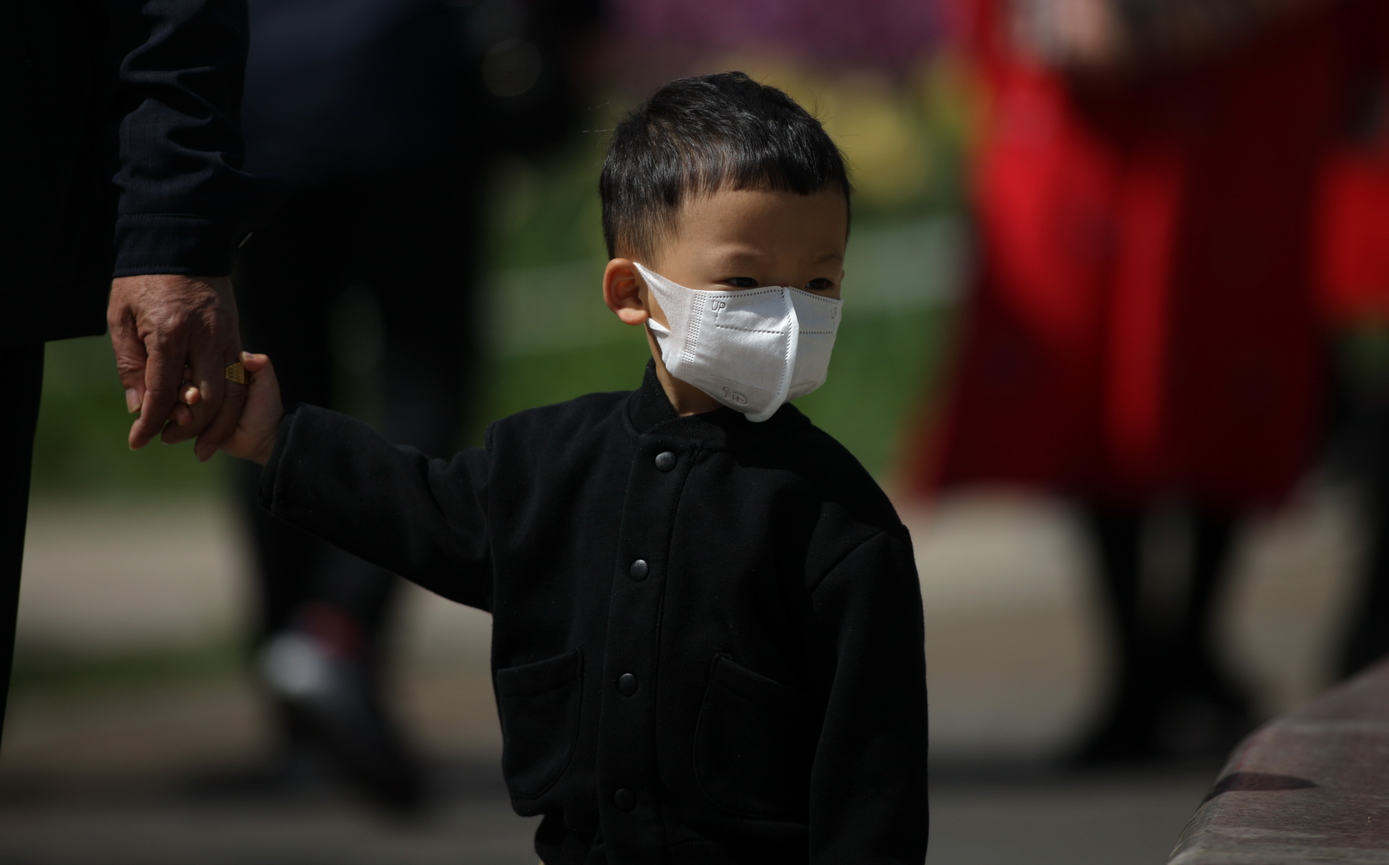with_mask: (597, 70, 859, 428)
